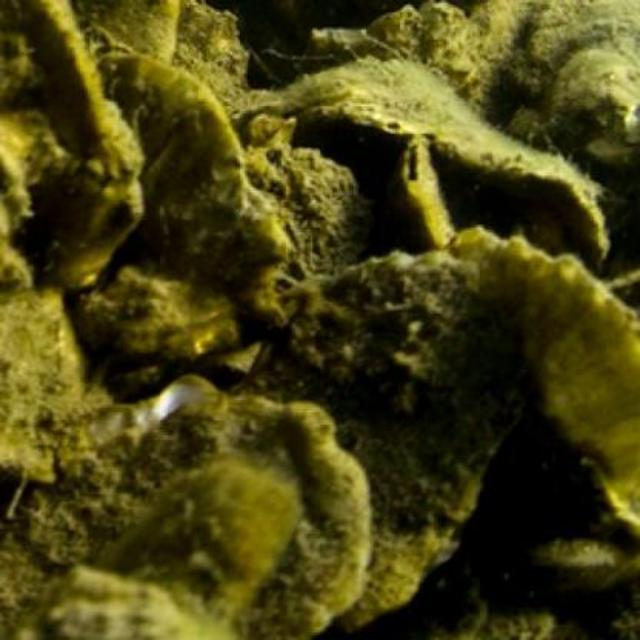Oyster-Closed: (236, 249, 520, 628), (0, 379, 373, 638), (438, 233, 638, 620), (251, 59, 611, 257), (68, 60, 288, 383), (434, 0, 638, 233), (0, 0, 156, 300), (0, 300, 148, 487)
Oyster-Open: (387, 136, 453, 249)
